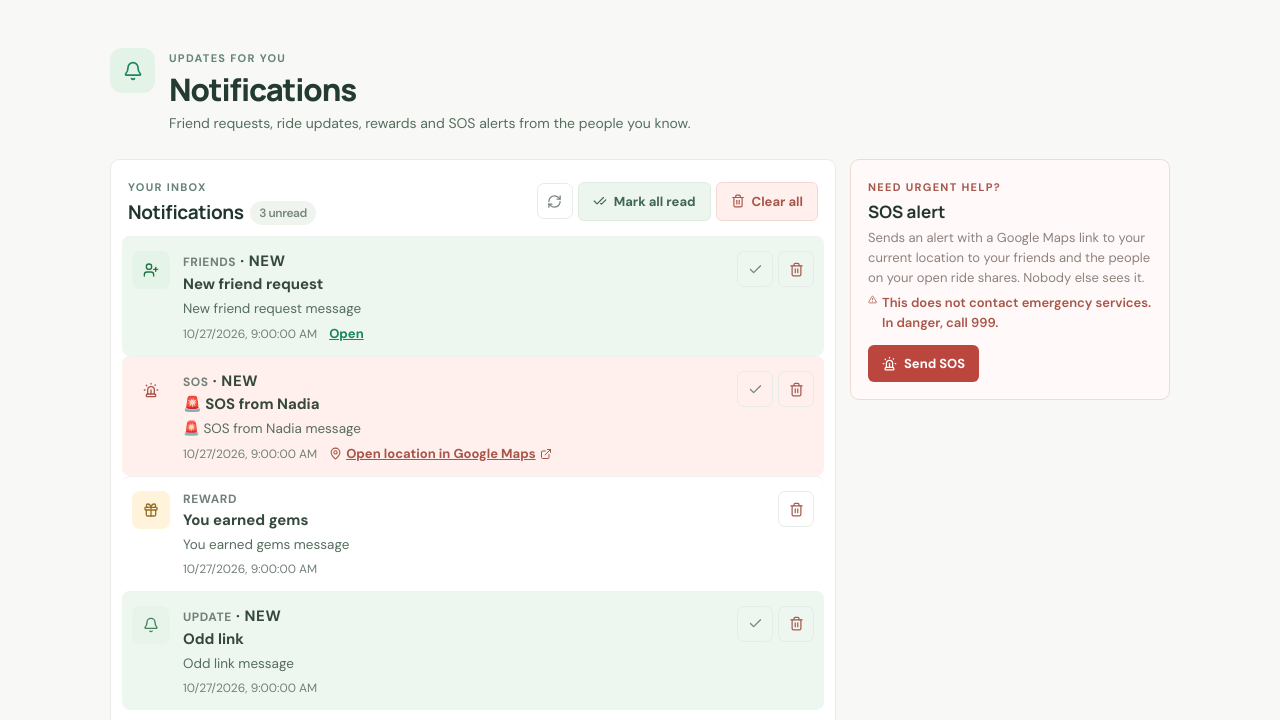
NotificationsPage › marks all as read
Click the button "Mark all read". click: [644, 201]
box: [578,182,710,221]
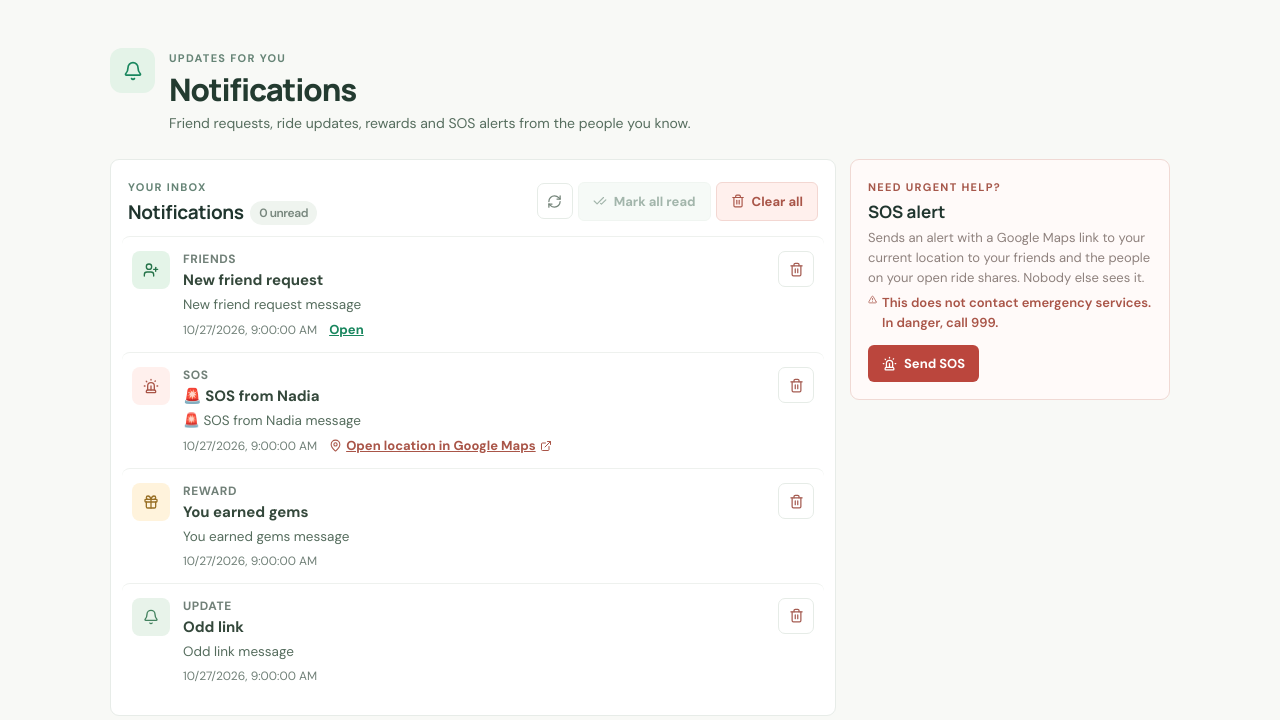
Check: the text with test id "page-unread" reads "0 unread", box [259,205,308,221]
Check: the button "Mark all read" is disabled, box [578,182,710,221]
